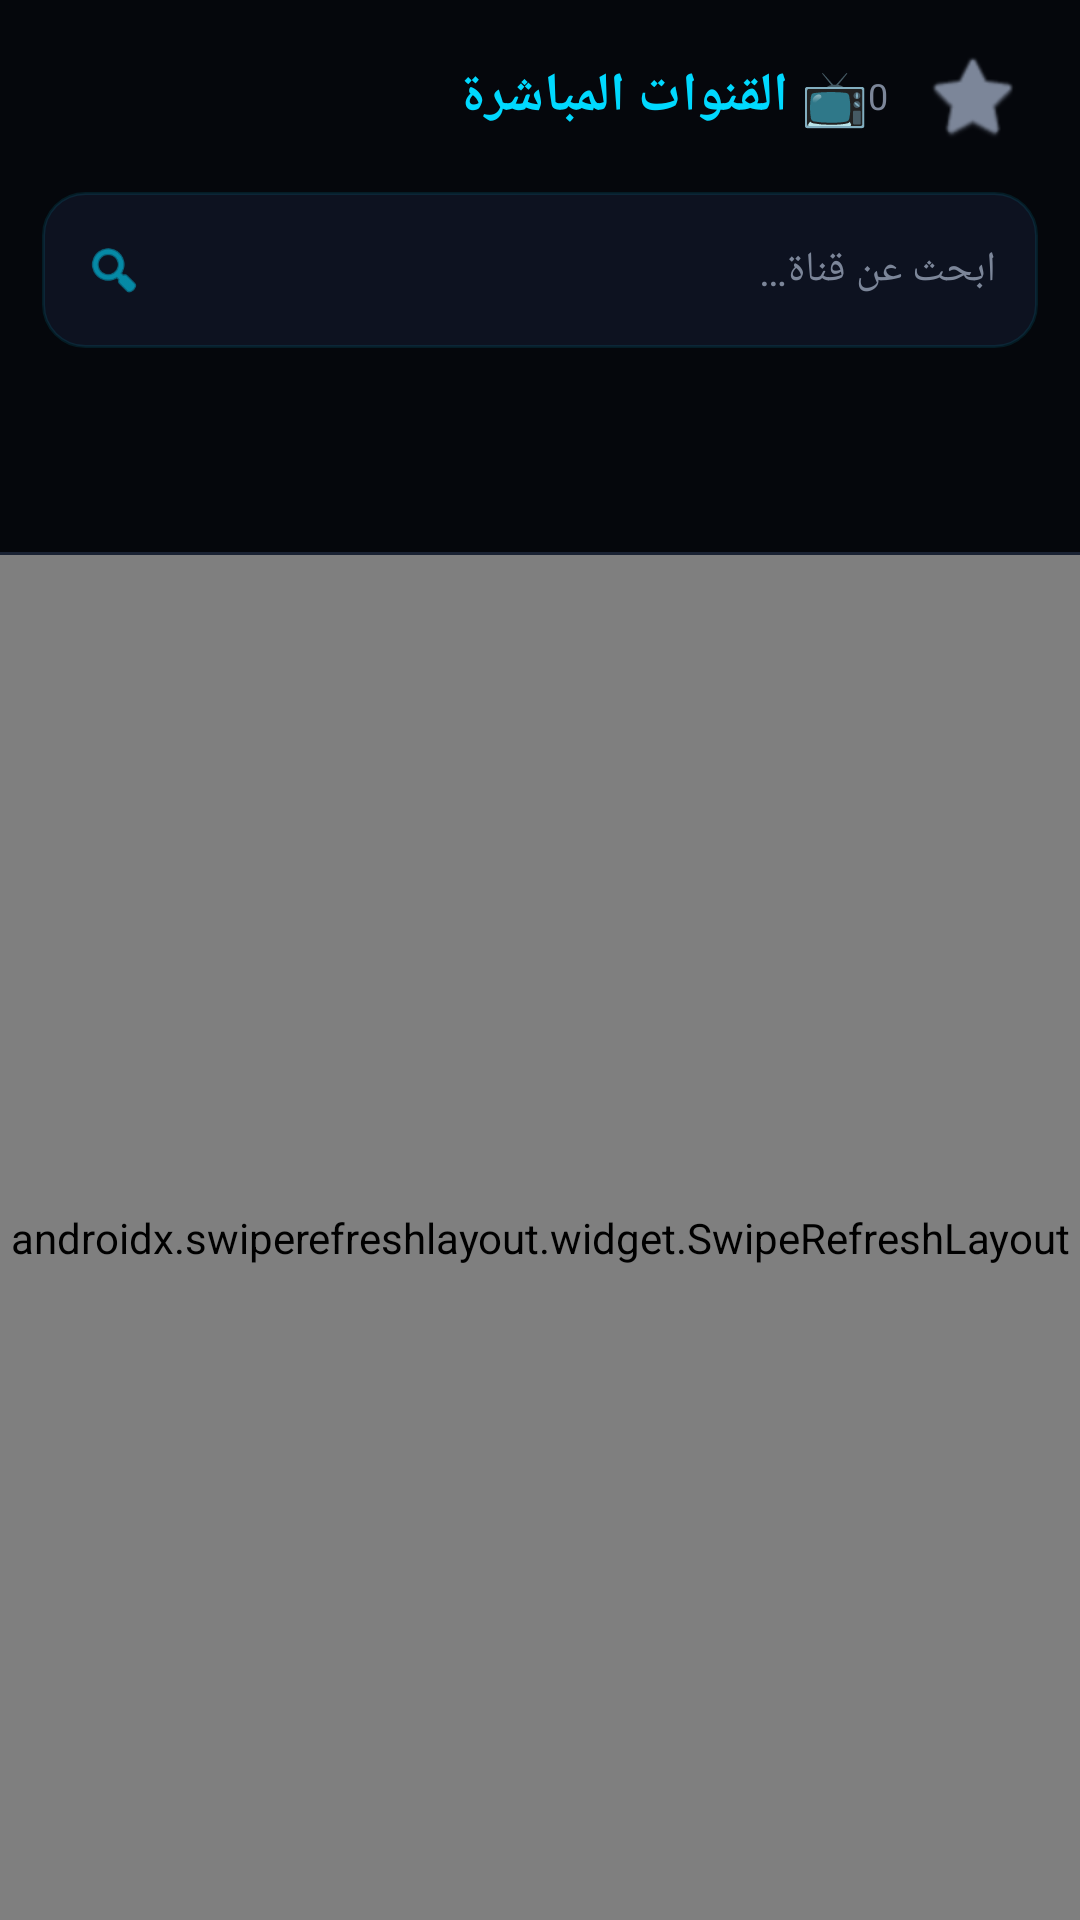

Locate icon controls on the screen. Image size 1080×1920, boxes as bbox=[x1, y1, x2, y2].
search: bbox=[92, 248, 136, 293]
star: bbox=[933, 58, 1013, 135]
